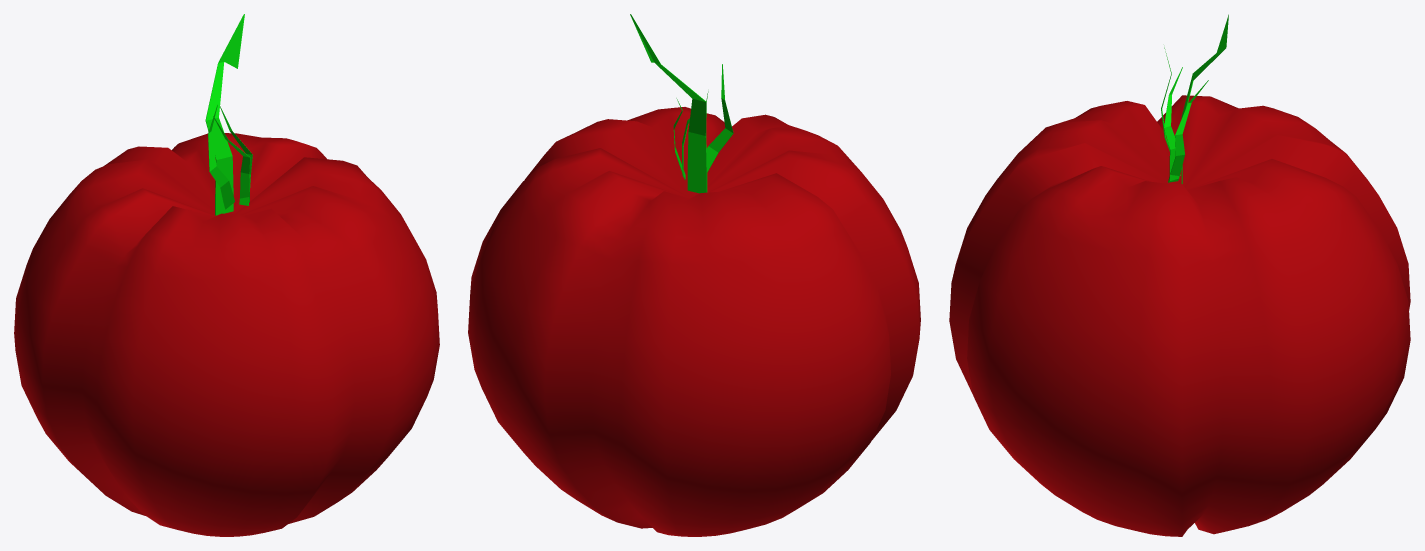
Rendered from domates tam.fbx.
3 renders of one model, left to right at view 1: azimuth 30°, elevation 25°; view 2: azimuth 150°, elevation 25°; view 3: azimuth 270°, elevation 25°, orthographic. The views are drawn at different scales.
Visible parts, largest first — view 1: Sphere; view 2: Sphere; view 3: Sphere.
Part boxes in pixels (x1,y1,x2,y2): Sphere: (14, 14, 439, 536); Sphere: (468, 14, 920, 536); Sphere: (949, 14, 1410, 536).
Bounding box in the file's own units: 391 × 482 × 388.
